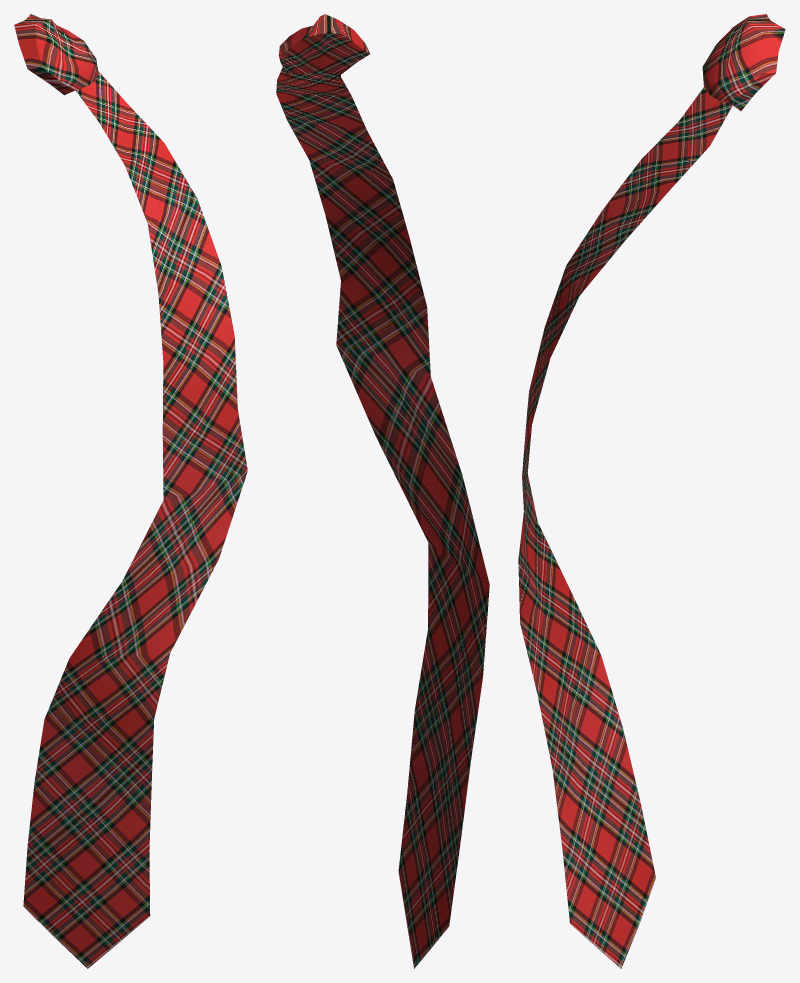
File: Pose-12_SuitTie-1.fbx
The picture shows the model from 3 angles, left to right: view 1: azimuth 30°, elevation 25°; view 2: azimuth 150°, elevation 25°; view 3: azimuth 270°, elevation 25°; orthographic projection. The views are drawn at different scales.
Visible parts, largest first — view 1: Pose-12_SuitTie-1; view 2: Pose-12_SuitTie-1; view 3: Pose-12_SuitTie-1.
Boxes of the visible parts, <box> form: Pose-12_SuitTie-1: <box>14,14,247,968</box>; Pose-12_SuitTie-1: <box>276,14,489,968</box>; Pose-12_SuitTie-1: <box>518,14,785,968</box>.
Size of the model in its own units: 10.51 by 53.89 by 13.62.
